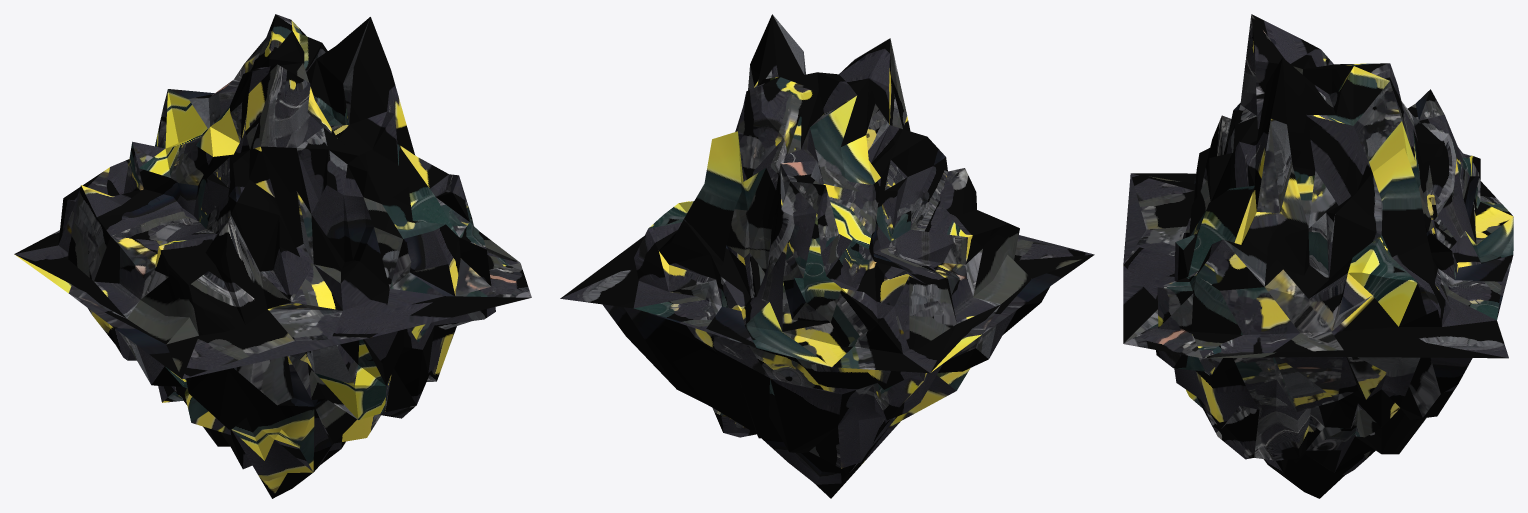
Rendered from iceberg2.fbx.
3 views of the same model, side by side, from view 1: azimuth 30°, elevation 25°; view 2: azimuth 150°, elevation 25°; view 3: azimuth 270°, elevation 25° (orthographic). The views are drawn at different scales.
Visible parts, largest first — view 1: output_unwrapped; view 2: output_unwrapped; view 3: output_unwrapped.
Boxes of the visible parts, box(x1,y1,x2,y2) form: output_unwrapped: box(14, 14, 531, 498); output_unwrapped: box(560, 14, 1094, 498); output_unwrapped: box(1123, 14, 1513, 498).
Bounding box in the file's own units: 156 × 190 × 140.
